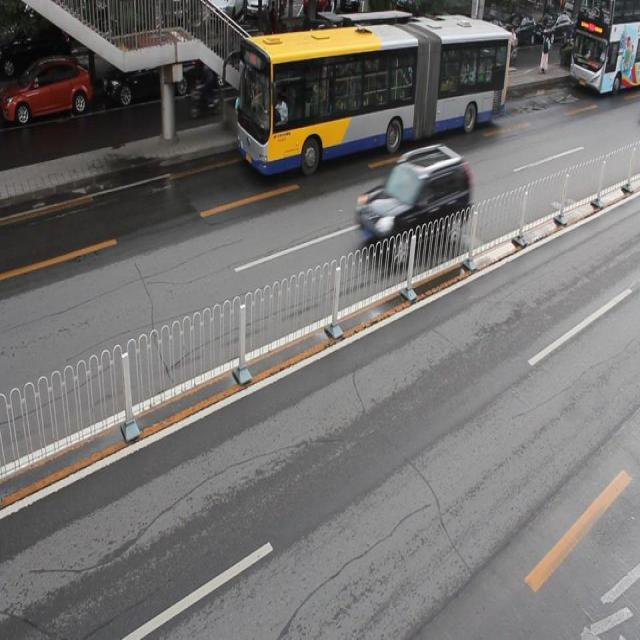car: (359, 143, 470, 264), (1, 59, 93, 128), (102, 43, 193, 104), (206, 29, 272, 93), (289, 24, 361, 81)
van: (239, 10, 511, 170), (571, 1, 640, 94)
